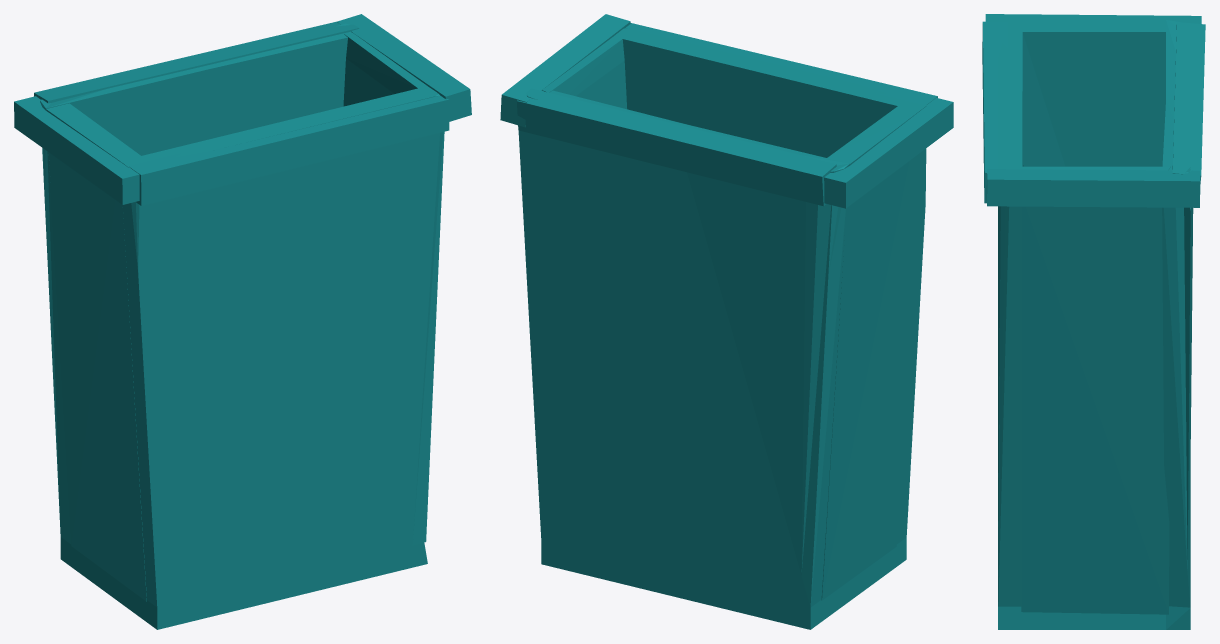
File: bin_blue.glb
3 views of the same model, side by side, from view 1: azimuth 30°, elevation 25°; view 2: azimuth 150°, elevation 25°; view 3: azimuth 270°, elevation 25° (orthographic).
Parts seen in each view (by area): view 1: group954169556.001; view 2: group954169556.001; view 3: group954169556.001.
Boxes of the visible parts, x1,y1,x2,y2 form: group954169556.001: (14,14,471,629); group954169556.001: (500,14,953,629); group954169556.001: (982,14,1205,629).
Size of the model in its own units: 2.66 by 3.41 by 1.48.
